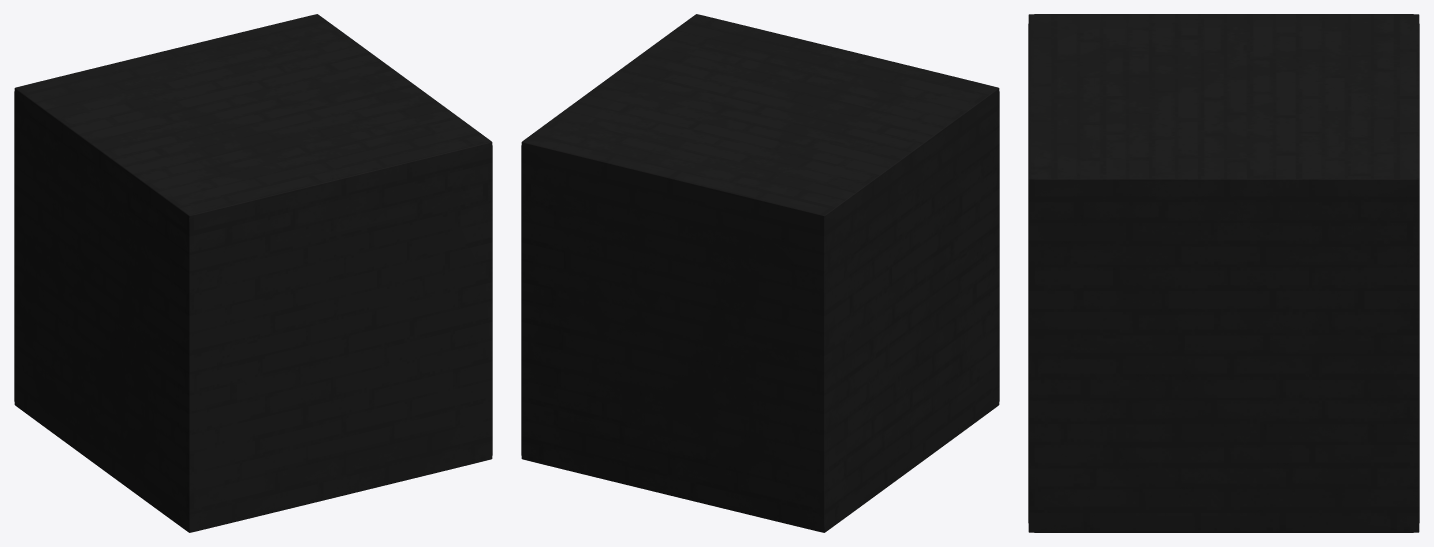
Rendered from brick.glb.
3 views of the same model, side by side, from view 1: azimuth 30°, elevation 25°; view 2: azimuth 150°, elevation 25°; view 3: azimuth 270°, elevation 25° (orthographic). The views are drawn at different scales.
Visible parts, largest first — view 1: wall; view 2: wall; view 3: wall.
Part boxes in pixels (x1,y1,x2,y2): wall: (14, 14, 492, 532); wall: (521, 14, 999, 532); wall: (1028, 14, 1419, 532).
Bounding box in the file's own units: 2 × 2 × 2.
1 material, 1 textured.
